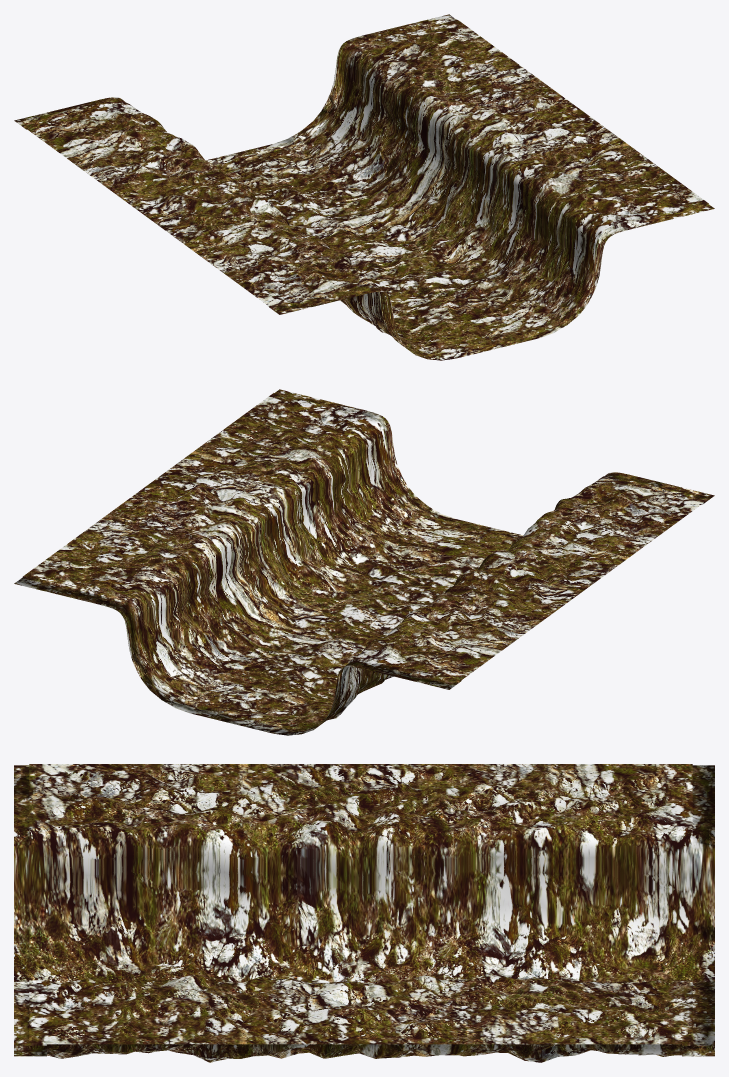
File: valley01.FBX
3 renders of one model, top to bottom at view 1: azimuth 30°, elevation 25°; view 2: azimuth 150°, elevation 25°; view 3: azimuth 270°, elevation 25°, orthographic. The views are drawn at different scales.
Visible parts, largest first — view 1: Valley01_Flattened; view 2: Valley01_Flattened; view 3: Valley01_Flattened.
Boxes of the visible parts, x1,y1,x2,y2 form: Valley01_Flattened: [14, 14, 714, 360]; Valley01_Flattened: [14, 389, 714, 735]; Valley01_Flattened: [14, 764, 714, 1062].
Size of the model in its own units: 1000 by 209 by 1057.
